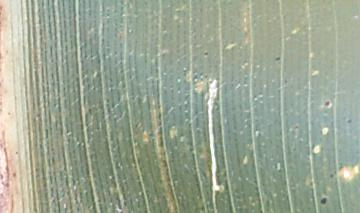tarspot: (321, 198, 328, 206), (325, 99, 331, 107), (347, 119, 353, 125), (275, 56, 281, 62), (203, 51, 209, 57), (329, 175, 335, 180), (283, 79, 288, 83)
